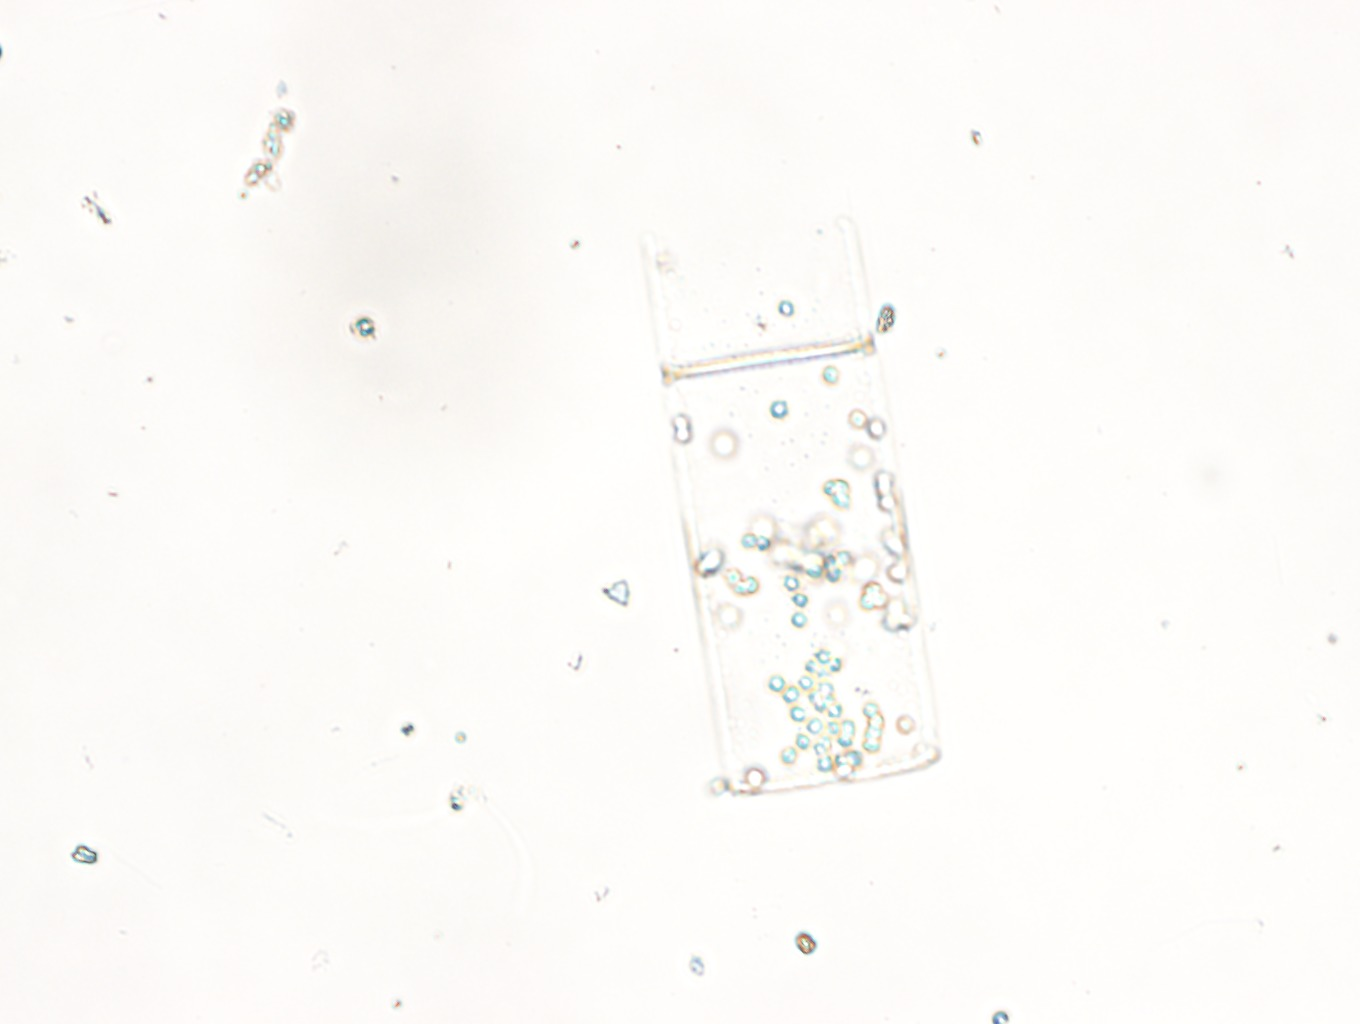guinardia flaccida: (634, 225, 943, 794)
